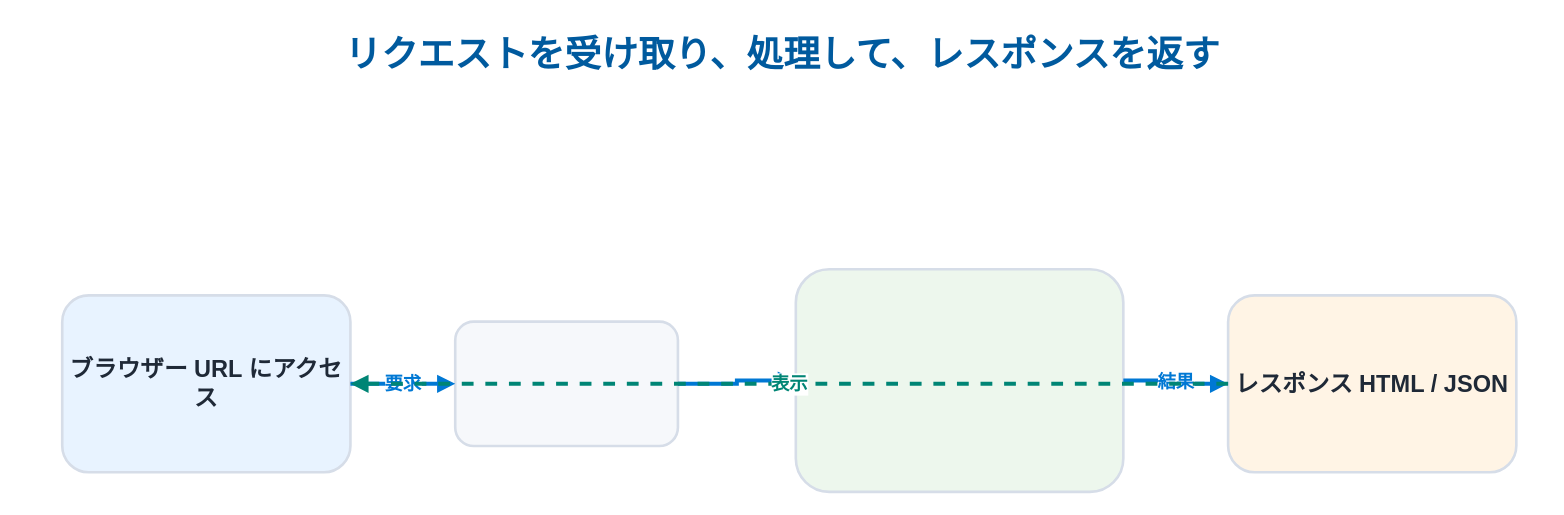
Some shapes in this 1564 by 515 pixel diagram are drawn without their labels. The shapes that lost their labels are listed below. From the top down, each one's centre as x and y in pixels, then its label:
[566,383]: インターネット HTTP/HTTPS
[959,380]: Web アプリケーション サーバー側で処理
